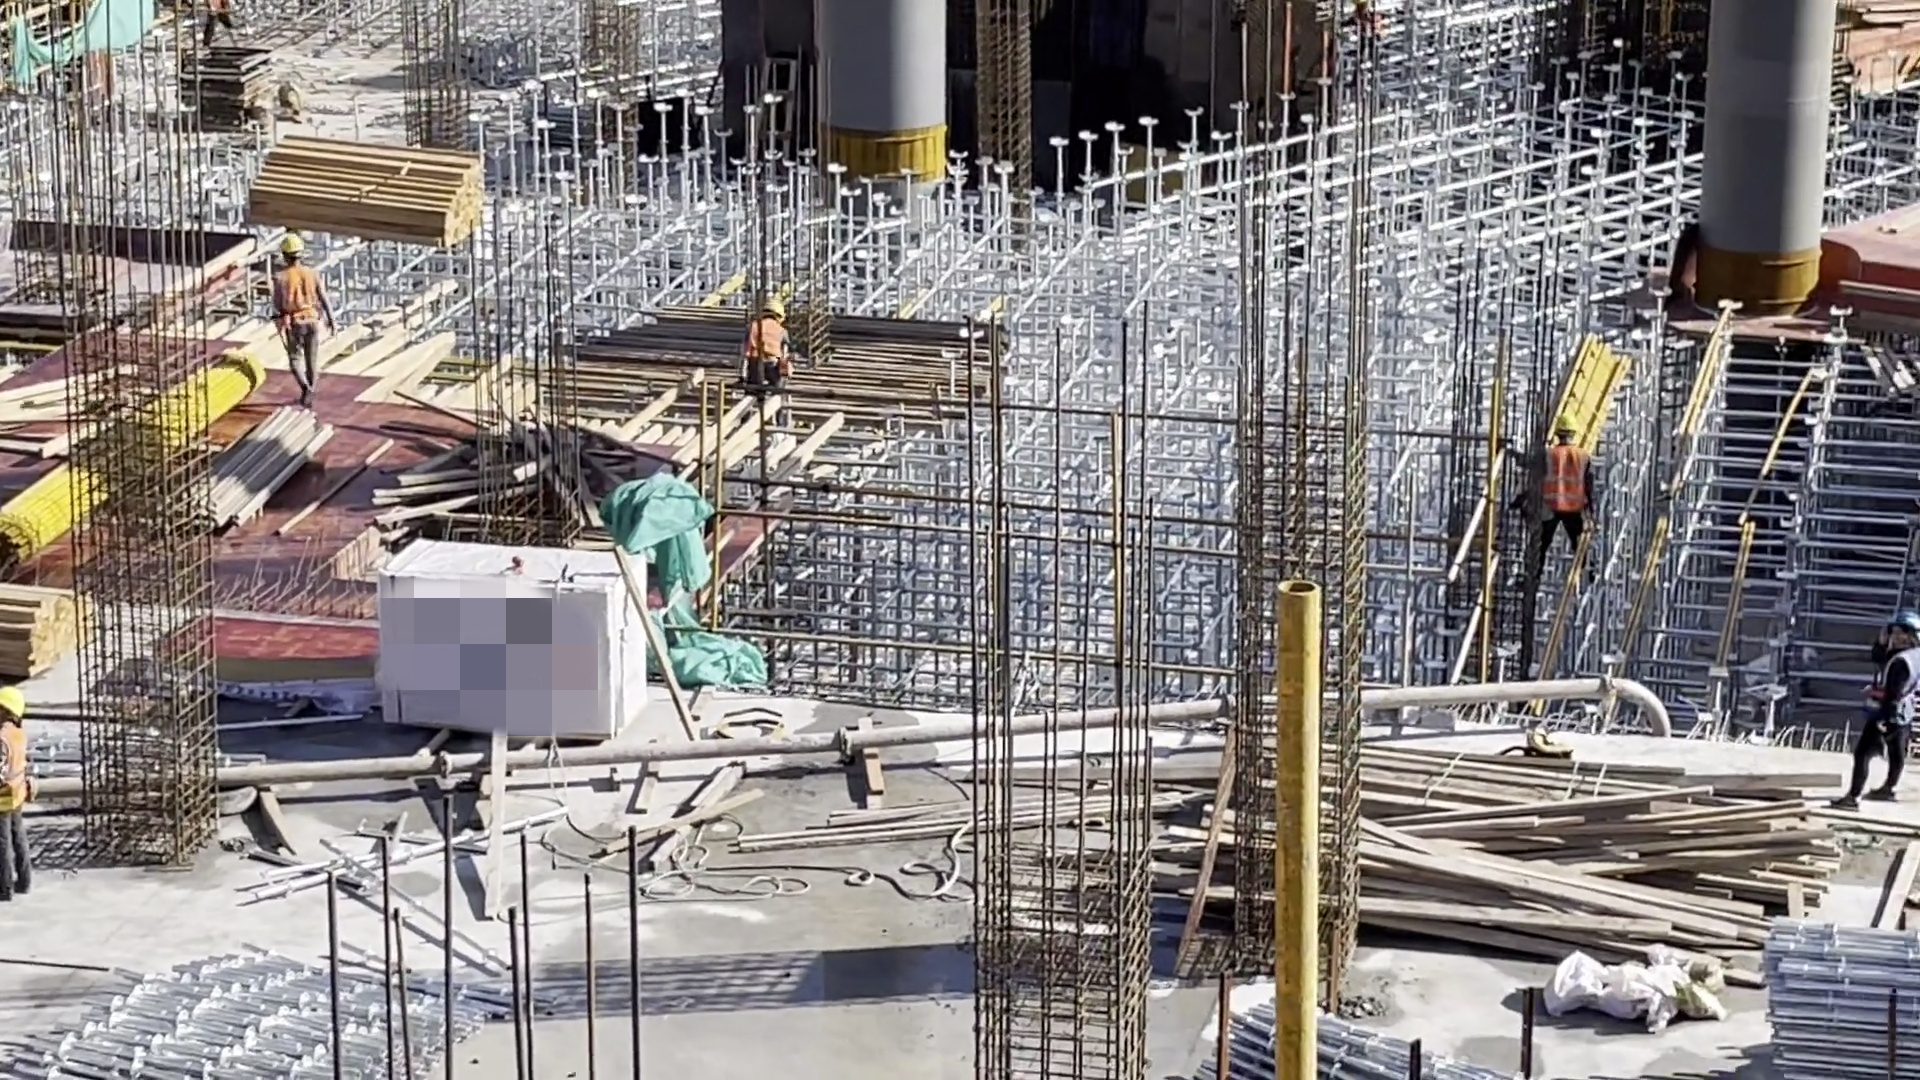helmet: (1881, 612, 1920, 635), (3, 694, 32, 717), (283, 238, 306, 258), (1554, 417, 1578, 435), (758, 301, 788, 313)
person: (266, 239, 334, 415), (1869, 605, 1920, 835), (1537, 416, 1593, 576), (734, 301, 803, 400), (3, 691, 33, 909), (201, 5, 243, 49)
vest: (1874, 642, 1920, 731), (277, 262, 328, 335), (1544, 438, 1588, 523), (3, 725, 32, 808), (747, 321, 788, 373)
